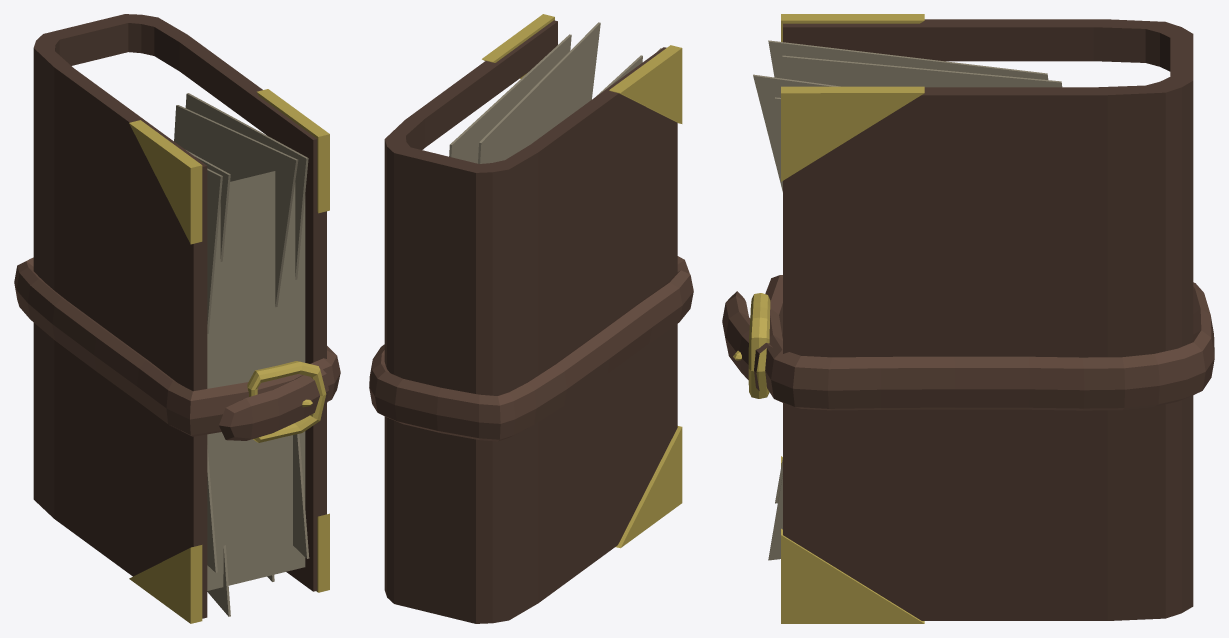
The model's file is book.glb.
3 renders of one model, left to right at view 1: azimuth 30°, elevation 25°; view 2: azimuth 150°, elevation 25°; view 3: azimuth 270°, elevation 25°, orthographic. The views are drawn at different scales.
Visible parts, largest first — view 1: Book3_Closed; view 2: Book3_Closed; view 3: Book3_Closed.
Part boxes in pixels (<box>): Book3_Closed: <box>14,14,340,623</box>; Book3_Closed: <box>369,14,693,623</box>; Book3_Closed: <box>722,14,1214,623</box>.
Size of the model in its own units: 0.1086 by 0.28 by 0.2327.
